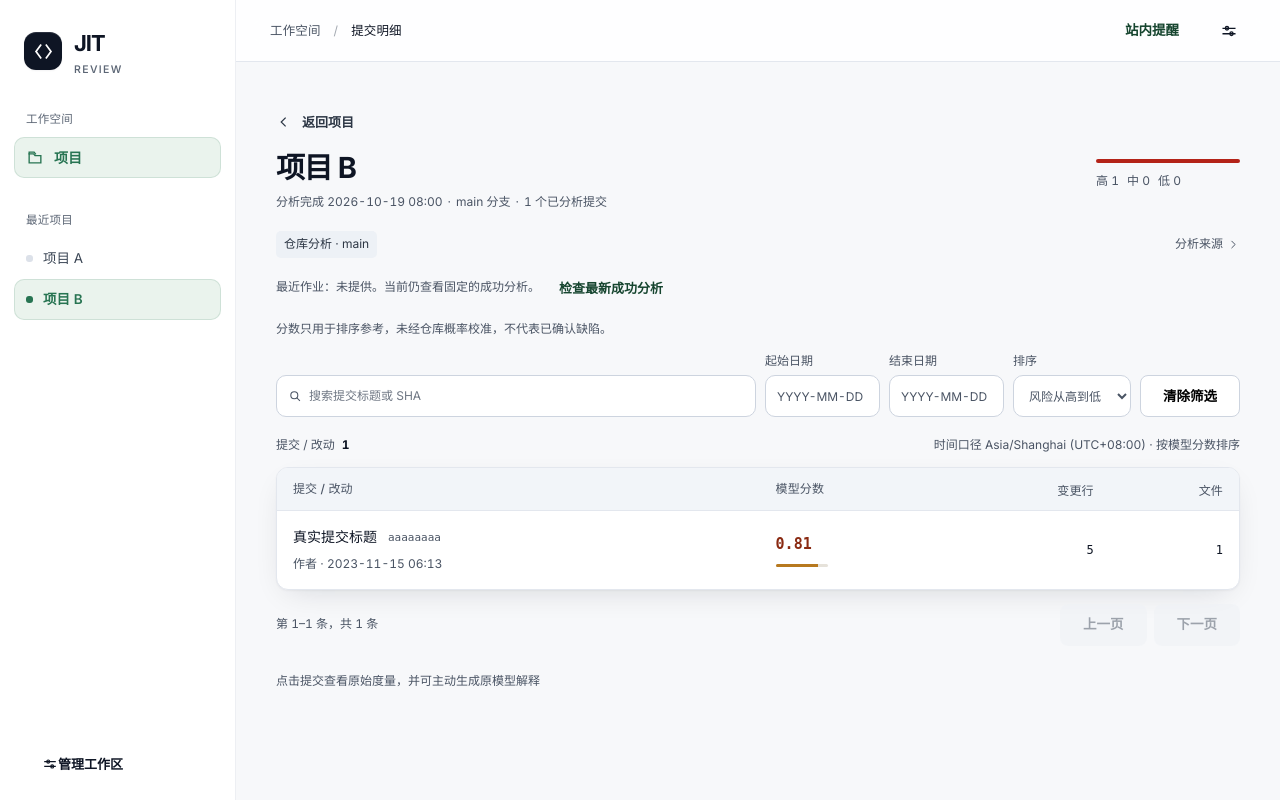
Test: returns from a report to the same pinned analysis instead of a newer result
Check: the text "0.81" is shown, box [776, 536, 812, 554]
Click the button "管理工作区".
click(82, 764)  # box [23, 746, 142, 782]
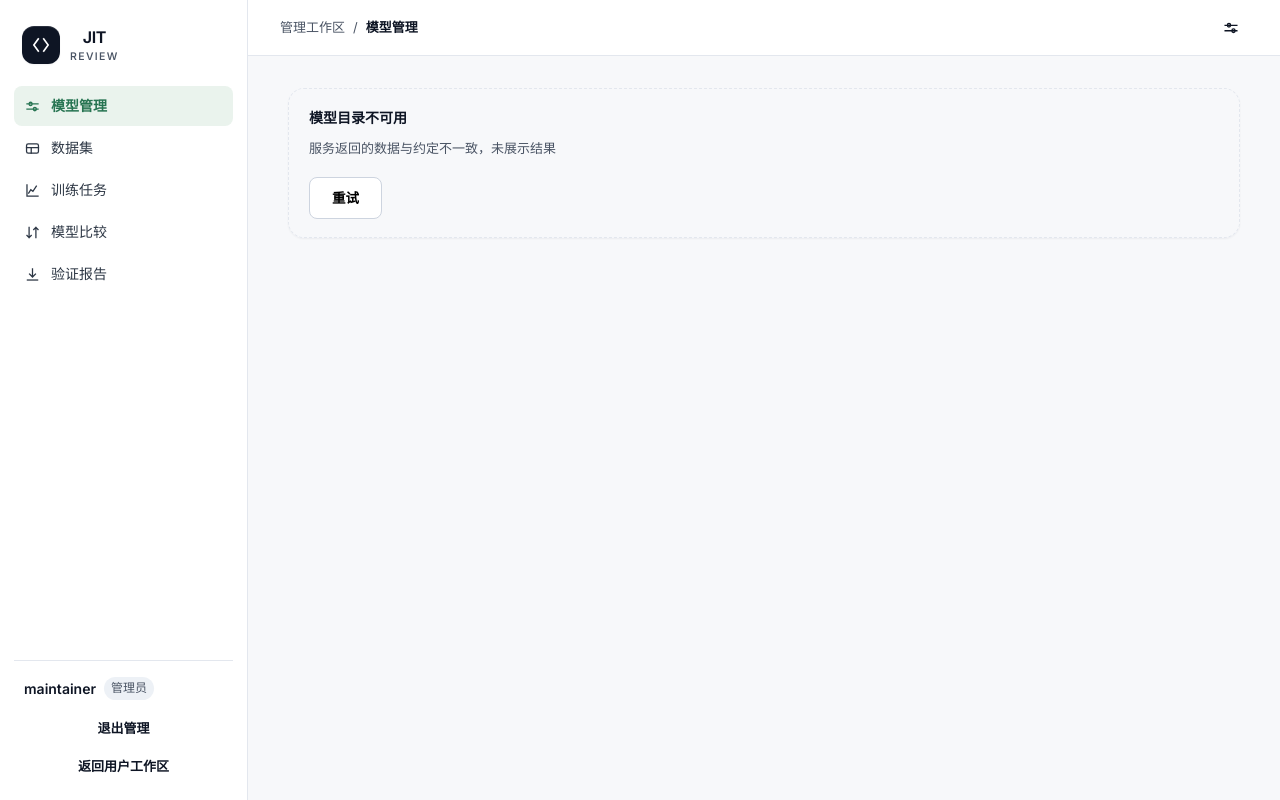
Click the button "验证报告".
click(124, 274)  # box [14, 254, 233, 294]
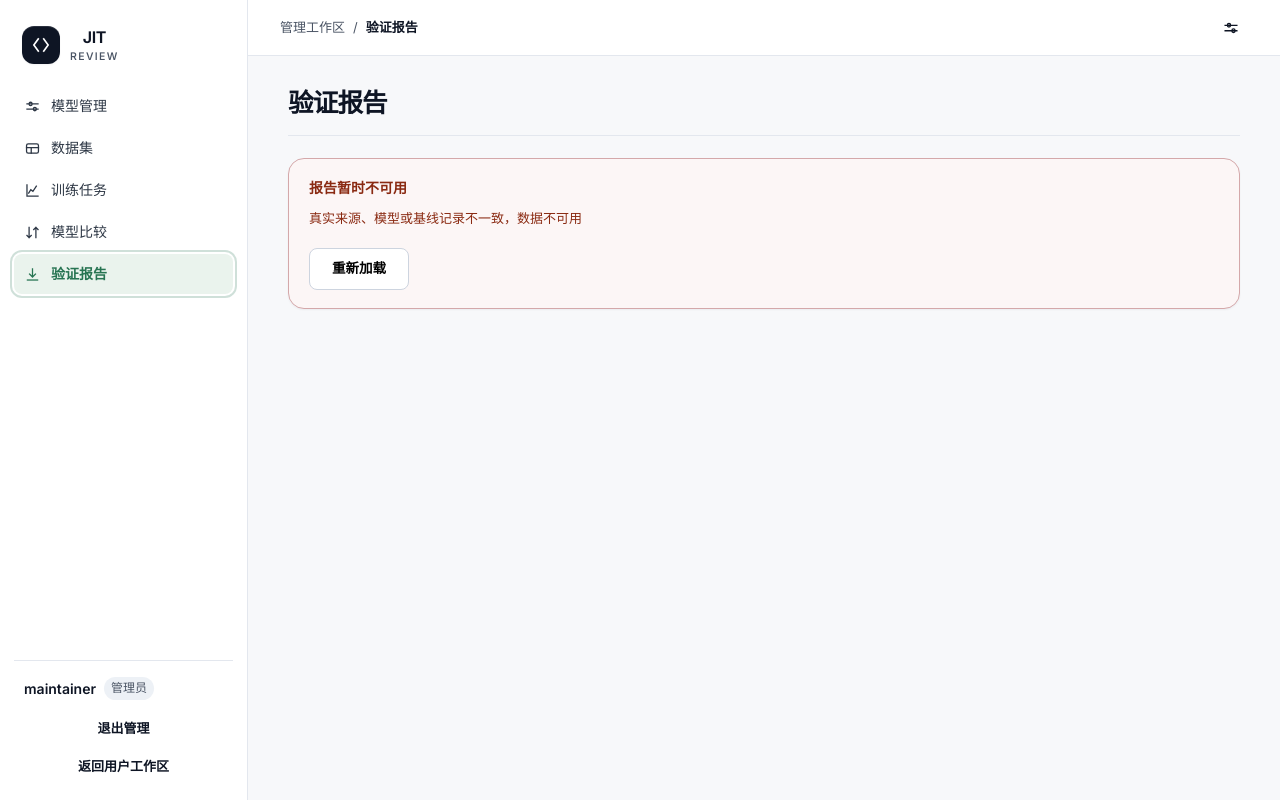
Click the button "返回用户工作区".
click(124, 766)  # box [14, 748, 233, 784]
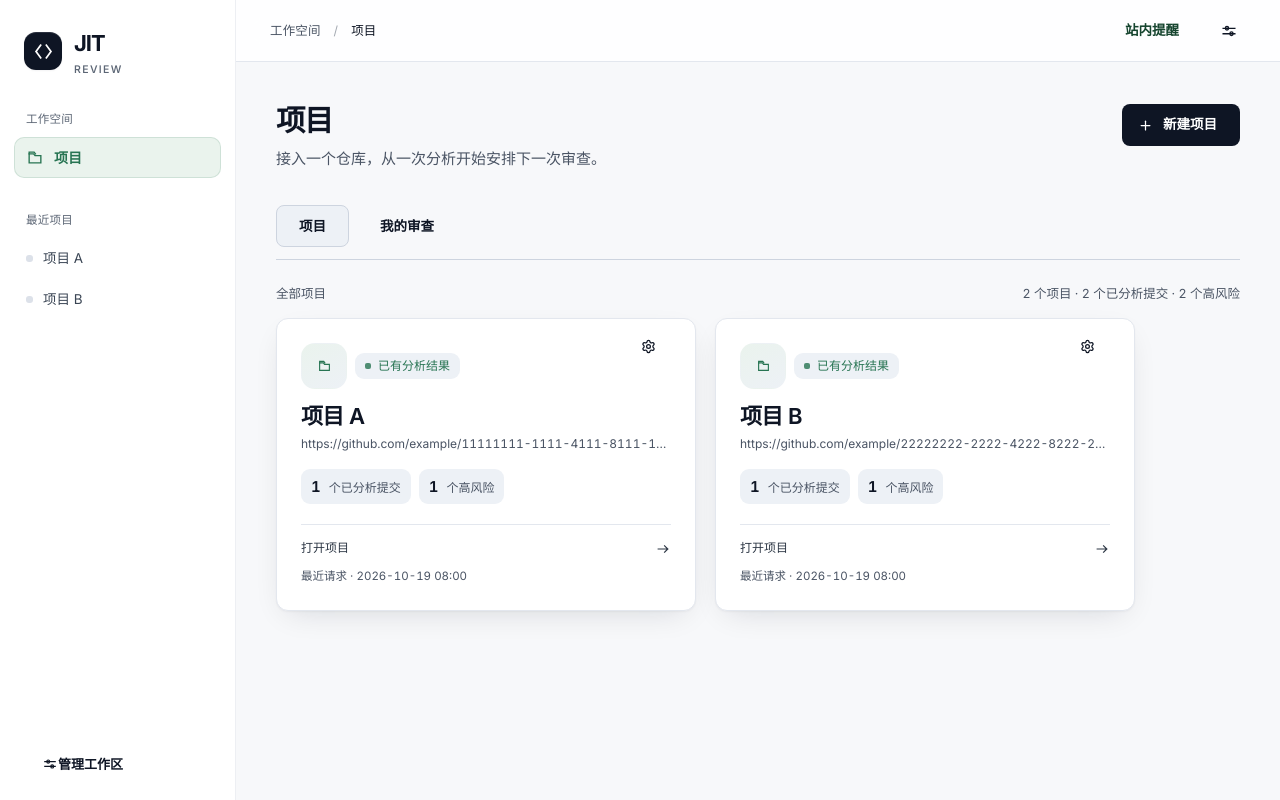
Click the button "项目 B".
click(118, 299)  # box [14, 279, 221, 320]
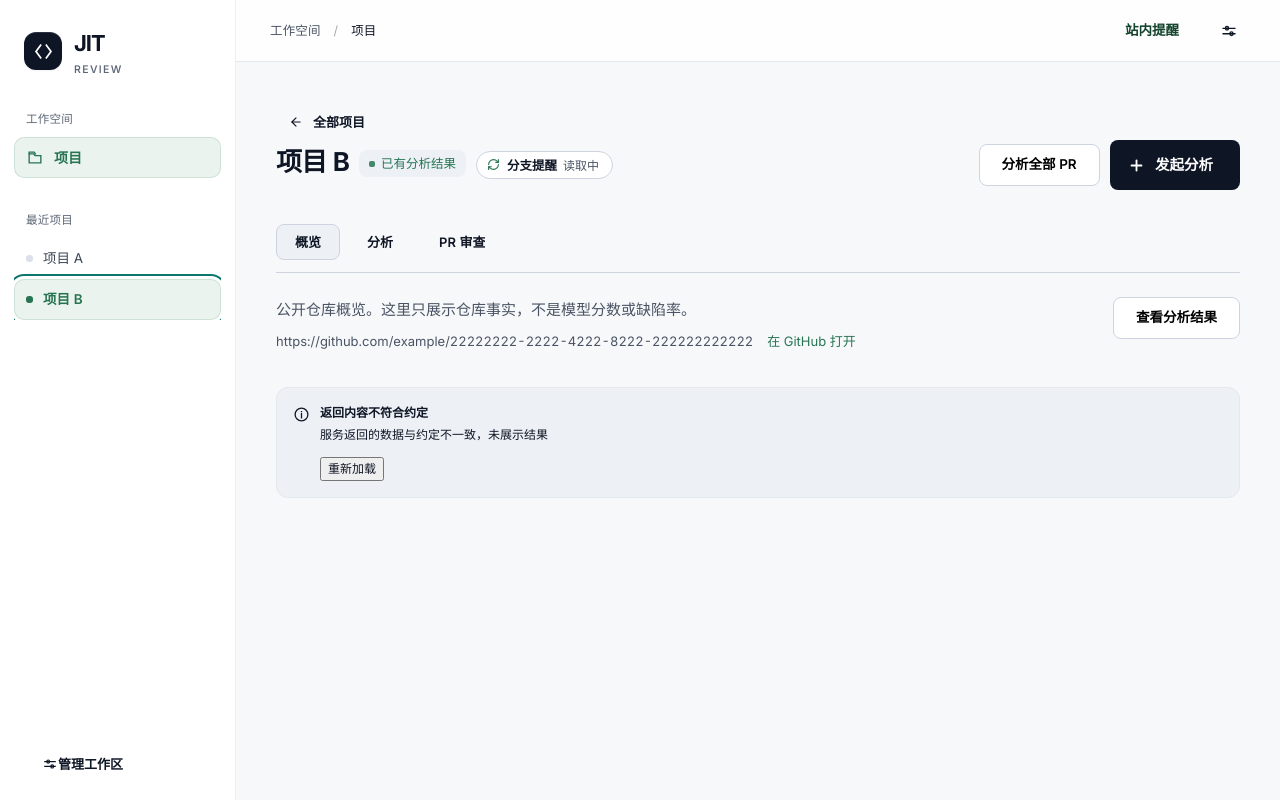
Click the button "分析".
click(380, 242)  # box [348, 224, 412, 260]
(page scrolled)
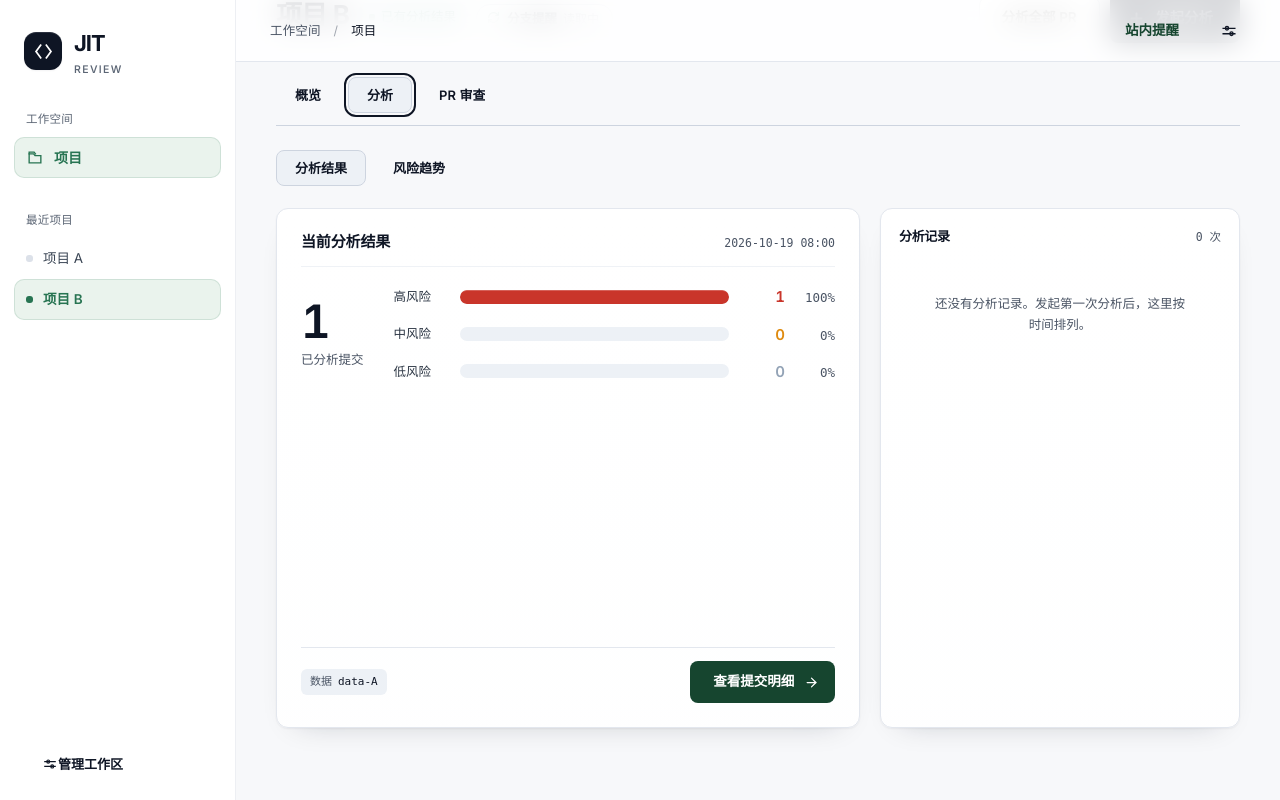
Click the button "查看提交明细".
click(763, 682)  # box [690, 661, 835, 703]
(page scrolled)
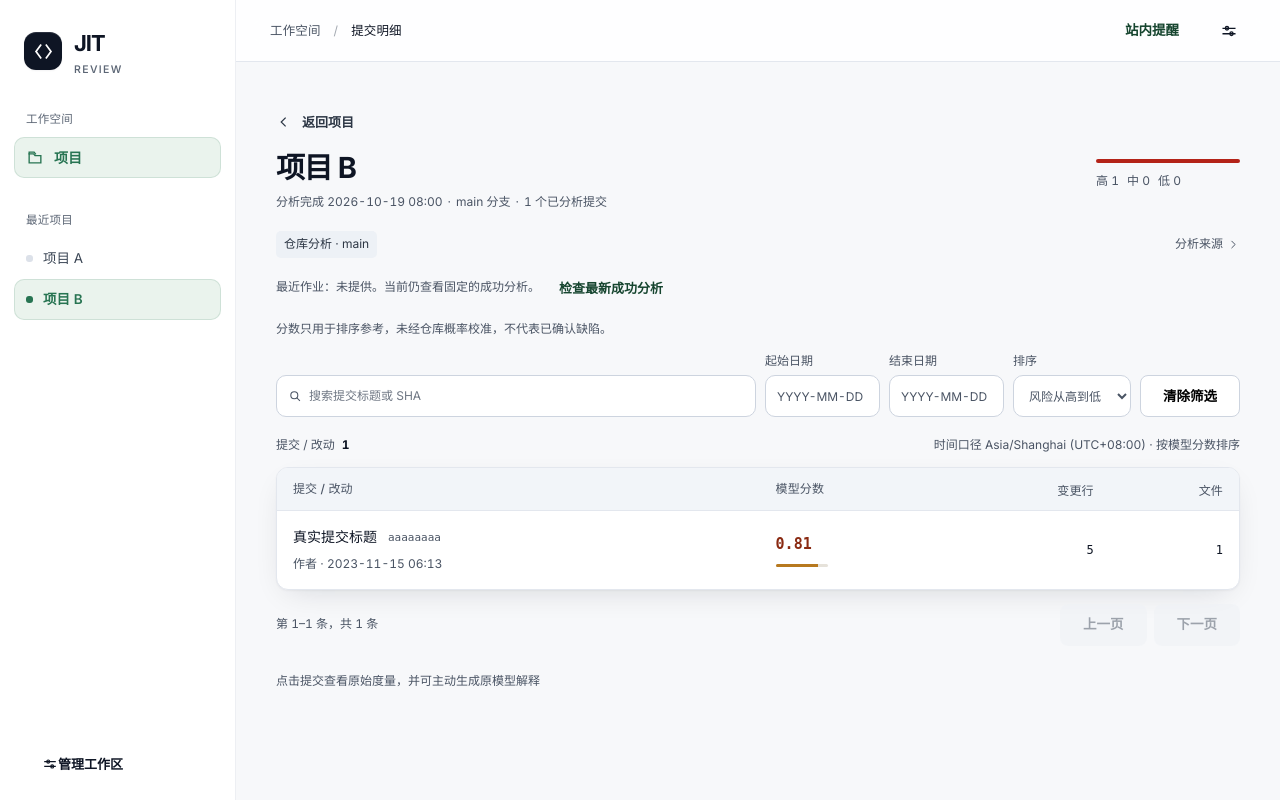
Check: the text "0.81" is shown, box [776, 536, 812, 554]
